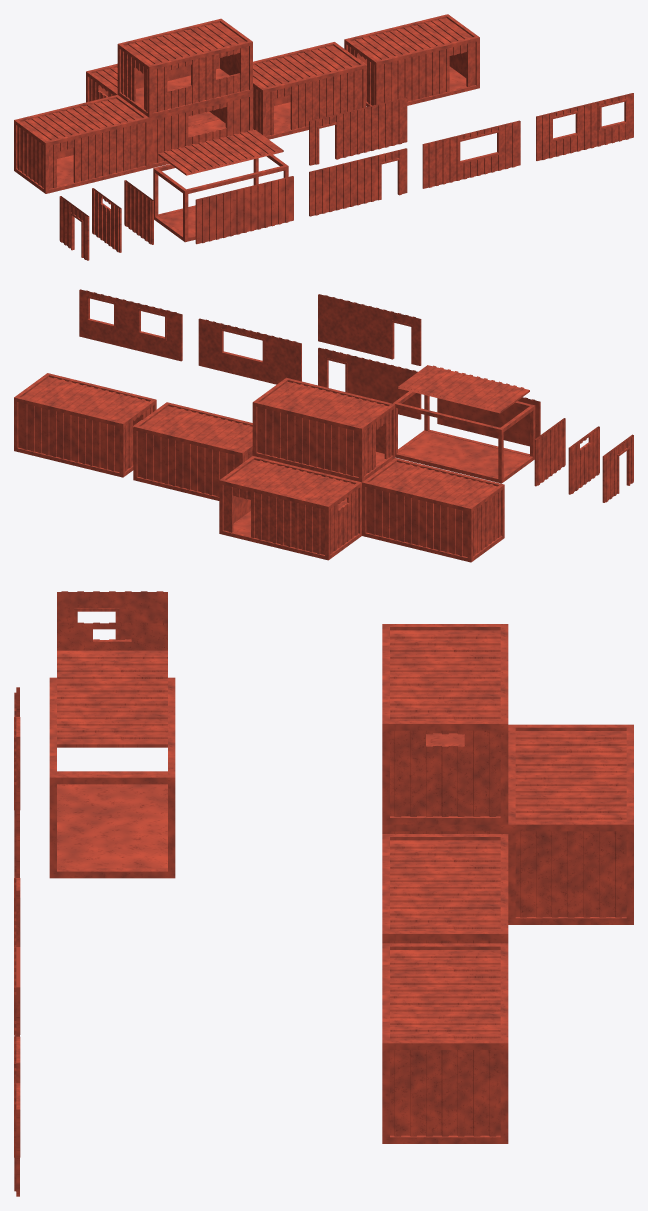
3 views of the same model, one above another, from view 1: azimuth 30°, elevation 25°; view 2: azimuth 150°, elevation 25°; view 3: azimuth 270°, elevation 25° (orthographic). The views are drawn at different scales.
Visible parts, largest first — view 1: frame.005_14, frame.004_13, frame.001_10, frame.002_11, wall_1, door_cut_left_7, door_cut_right_2, frame.003_12, window_cut_large_3, window_cut_2_4, roof_9, frame_0 (+4 smaller); view 2: frame.005_14, frame.004_13, frame.006_15, frame.001_10, frame.002_11, frame_0, door_cut_left_7, window_cut_large_3, window_cut_2_4, roof_9, door_cut_right_2, wall_1 (+3 smaller); view 3: frame.001_10, frame.005_14, frame.006_15, frame_0, frame.002_11, roof_9, side-door_8, side_cut_6, frame.003_12, window_cut_2_4, door_cut_left_7.
Part boxes in pixels (x1=…): frame.005_14: x1=117, y1=18, x2=252, y2=117; frame.004_13: x1=14, y1=95, x2=149, y2=193; frame.001_10: x1=344, y1=14, x2=479, y2=106; frame.002_11: x1=253, y1=42, x2=366, y2=139; wall_1: x1=195, y1=176, x2=293, y2=244; door_cut_left_7: x1=309, y1=97, x2=407, y2=165; door_cut_right_2: x1=309, y1=148, x2=407, y2=216; frame.003_12: x1=149, y1=93, x2=252, y2=168; window_cut_large_3: x1=422, y1=120, x2=520, y2=188; window_cut_2_4: x1=536, y1=93, x2=633, y2=160; roof_9: x1=158, y1=130, x2=283, y2=175; frame_0: x1=153, y1=154, x2=288, y2=242; frame.005_14: x1=252, y1=377, x2=395, y2=482; frame.004_13: x1=362, y1=458, x2=504, y2=562; frame.006_15: x1=219, y1=456, x2=361, y2=560; frame.001_10: x1=14, y1=373, x2=156, y2=477; frame.002_11: x1=133, y1=402, x2=252, y2=500; frame_0: x1=393, y1=391, x2=535, y2=483; door_cut_left_7: x1=318, y1=294, x2=421, y2=365; window_cut_large_3: x1=198, y1=318, x2=301, y2=384; window_cut_2_4: x1=79, y1=289, x2=182, y2=361; roof_9: x1=398, y1=365, x2=529, y2=413; door_cut_right_2: x1=318, y1=347, x2=421, y2=419; wall_1: x1=437, y1=397, x2=540, y2=446; frame.001_10: x1=382, y1=943, x2=508, y2=1143; frame.005_14: x1=382, y1=624, x2=508, y2=824; frame.006_15: x1=508, y1=724, x2=633, y2=924; frame_0: x1=49, y1=677, x2=175, y2=878; frame.002_11: x1=382, y1=834, x2=508, y2=943; roof_9: x1=57, y1=650, x2=167, y2=747; side-door_8: x1=57, y1=591, x2=167, y2=639; side_cut_6: x1=57, y1=622, x2=167, y2=650; frame.003_12: x1=382, y1=824, x2=508, y2=833; window_cut_2_4: x1=14, y1=1015, x2=20, y2=1196; door_cut_left_7: x1=14, y1=696, x2=20, y2=877.
Size of the model in its own units: 33.16 by 6 by 16.76.
2 materials, 2 textured.
